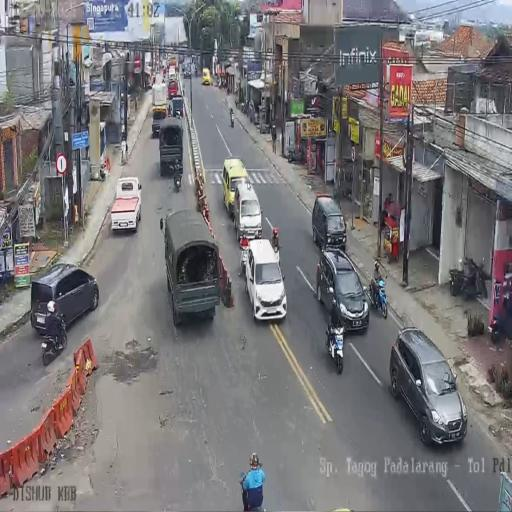3: (161, 208, 221, 325), (158, 117, 184, 181), (152, 81, 168, 135), (168, 78, 178, 99), (168, 54, 178, 68)
car: (389, 327, 466, 444), (317, 248, 368, 334), (243, 238, 286, 322), (312, 194, 347, 253), (112, 178, 142, 234), (222, 157, 249, 218), (171, 95, 183, 118), (202, 67, 212, 86), (182, 67, 190, 78)
truck: (40, 312, 68, 366), (452, 258, 486, 300), (490, 292, 512, 344), (324, 317, 344, 373), (368, 264, 388, 320), (285, 145, 304, 165), (230, 111, 235, 128), (241, 100, 246, 115), (194, 65, 198, 76)
